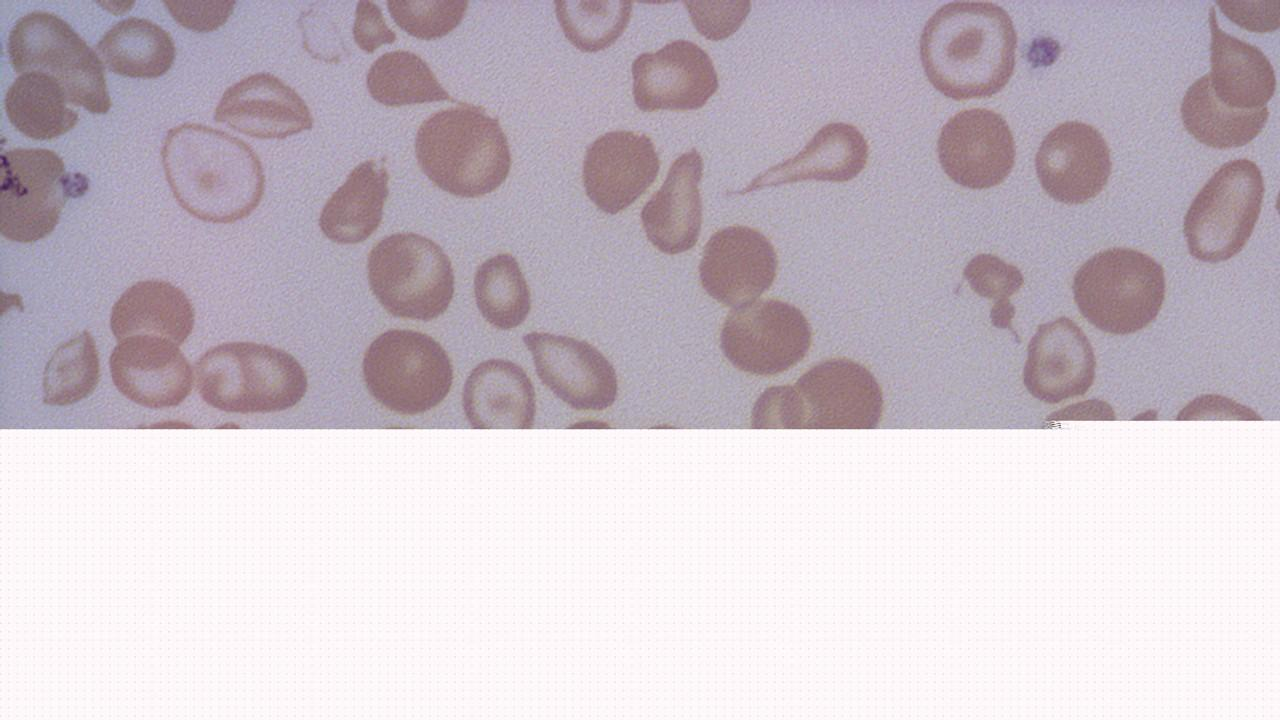RBC: (716, 113, 874, 205), (157, 120, 270, 226), (912, 0, 1022, 105), (409, 102, 519, 202), (1176, 153, 1268, 270), (1067, 238, 1171, 338), (192, 334, 314, 418), (354, 324, 458, 418), (363, 226, 458, 323), (520, 326, 625, 412), (714, 292, 816, 380), (104, 272, 200, 364), (782, 350, 892, 428), (576, 124, 660, 222), (932, 102, 1020, 195), (1030, 114, 1116, 209), (1175, 68, 1271, 153), (211, 68, 318, 144), (694, 220, 782, 312), (628, 34, 722, 118), (103, 331, 199, 411), (0, 142, 72, 248), (640, 144, 706, 258), (1021, 312, 1101, 405), (316, 150, 391, 248), (1206, 16, 1278, 112), (360, 46, 455, 112), (1, 67, 82, 144), (459, 352, 538, 427), (93, 13, 178, 81), (36, 324, 104, 409), (4, 6, 82, 80), (469, 248, 534, 332), (550, 1, 634, 57), (295, 3, 357, 67), (382, 0, 470, 44), (678, 0, 755, 44), (350, 0, 402, 55), (158, 0, 241, 34), (1214, 1, 1280, 36)
